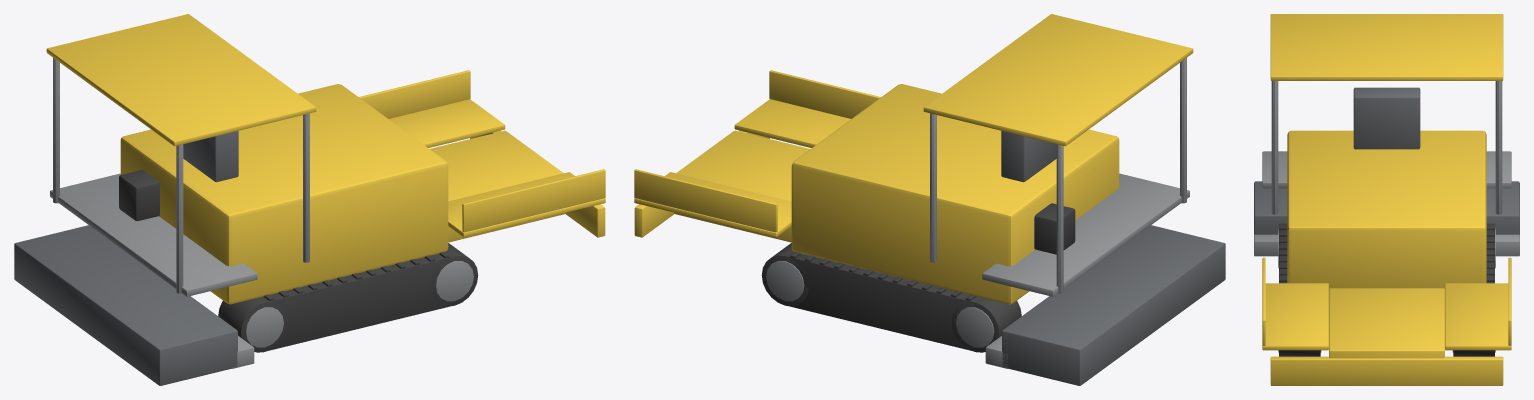
The model's file is EQP-ASF-001_lod1.glb.
The picture shows the model from 3 angles, left to right: view 1: azimuth 30°, elevation 25°; view 2: azimuth 150°, elevation 25°; view 3: azimuth 270°, elevation 25°; orthographic projection. The views are drawn at different scales.
Visible parts, largest first — view 1: EQP-ASF-001_corpo, EQP-ASF-001_capota, EQP-ASF-001_mesa, EQP-ASF-001_esteira-1_corpo, EQP-ASF-001_plataforma, EQP-ASF-001_silo, EQP-ASF-001_aba_borda-1, EQP-ASF-001_aba1, EQP-ASF-001_aba_borda1, EQP-ASF-001_painel, EQP-ASF-001_aba-1, EQP-ASF-001_assento (+8 smaller); view 2: EQP-ASF-001_corpo, EQP-ASF-001_capota, EQP-ASF-001_mesa, EQP-ASF-001_esteira1_corpo, EQP-ASF-001_plataforma, EQP-ASF-001_silo, EQP-ASF-001_aba_borda1, EQP-ASF-001_aba-1, EQP-ASF-001_aba_borda-1, EQP-ASF-001_painel, EQP-ASF-001_aba1, EQP-ASF-001_assento (+8 smaller); view 3: EQP-ASF-001_corpo, EQP-ASF-001_capota, EQP-ASF-001_silo, EQP-ASF-001_frente_silo, EQP-ASF-001_aba1, EQP-ASF-001_aba-1, EQP-ASF-001_painel, EQP-ASF-001_mesa, EQP-ASF-001_plataforma, EQP-ASF-001_rosca, EQP-ASF-001_poste2, EQP-ASF-001_poste3 (+6 smaller).
Boxes of the visible parts, left/top/right/bottom form: EQP-ASF-001_corpo: left=120, top=84, right=448, bottom=304; EQP-ASF-001_capota: left=46, top=14, right=316, bottom=146; EQP-ASF-001_mesa: left=14, top=225, right=237, bottom=385; EQP-ASF-001_esteira-1_corpo: left=259, top=251, right=453, bottom=350; EQP-ASF-001_plataforma: left=50, top=173, right=257, bottom=296; EQP-ASF-001_silo: left=430, top=130, right=565, bottom=242; EQP-ASF-001_aba_borda-1: left=462, top=169, right=605, bottom=232; EQP-ASF-001_aba1: left=389, top=99, right=505, bottom=147; EQP-ASF-001_aba_borda1: left=359, top=70, right=470, bottom=118; EQP-ASF-001_painel: left=183, top=131, right=238, bottom=182; EQP-ASF-001_aba-1: left=448, top=172, right=605, bottom=237; EQP-ASF-001_assento: left=119, top=169, right=159, bottom=221; EQP-ASF-001_corpo: left=791, top=84, right=1119, bottom=304; EQP-ASF-001_capota: left=923, top=14, right=1193, bottom=146; EQP-ASF-001_mesa: left=1002, top=225, right=1225, bottom=385; EQP-ASF-001_esteira1_corpo: left=786, top=251, right=980, bottom=350; EQP-ASF-001_plataforma: left=982, top=173, right=1189, bottom=296; EQP-ASF-001_silo: left=674, top=130, right=809, bottom=242; EQP-ASF-001_aba_borda1: left=634, top=169, right=777, bottom=232; EQP-ASF-001_aba-1: left=734, top=99, right=850, bottom=147; EQP-ASF-001_aba_borda-1: left=769, top=70, right=880, bottom=118; EQP-ASF-001_painel: left=1001, top=131, right=1056, bottom=182; EQP-ASF-001_aba1: left=634, top=172, right=791, bottom=237; EQP-ASF-001_assento: left=1034, top=203, right=1075, bottom=254; EQP-ASF-001_corpo: left=1287, top=130, right=1486, bottom=288; EQP-ASF-001_capota: left=1270, top=14, right=1503, bottom=80; EQP-ASF-001_silo: left=1329, top=288, right=1444, bottom=358; EQP-ASF-001_frente_silo: left=1270, top=356, right=1503, bottom=385; EQP-ASF-001_aba1: left=1445, top=283, right=1511, bottom=350; EQP-ASF-001_aba-1: left=1262, top=283, right=1328, bottom=350; EQP-ASF-001_painel: left=1353, top=87, right=1420, bottom=149; EQP-ASF-001_mesa: left=1254, top=181, right=1519, bottom=234; EQP-ASF-001_plataforma: left=1262, top=151, right=1511, bottom=188; EQP-ASF-001_rosca: left=1254, top=234, right=1519, bottom=256; EQP-ASF-001_poste2: left=1271, top=81, right=1278, bottom=214; EQP-ASF-001_poste3: left=1495, top=81, right=1502, bottom=214.
Bounding box in the file's own units: 5.75 × 2.86 × 3.2.
